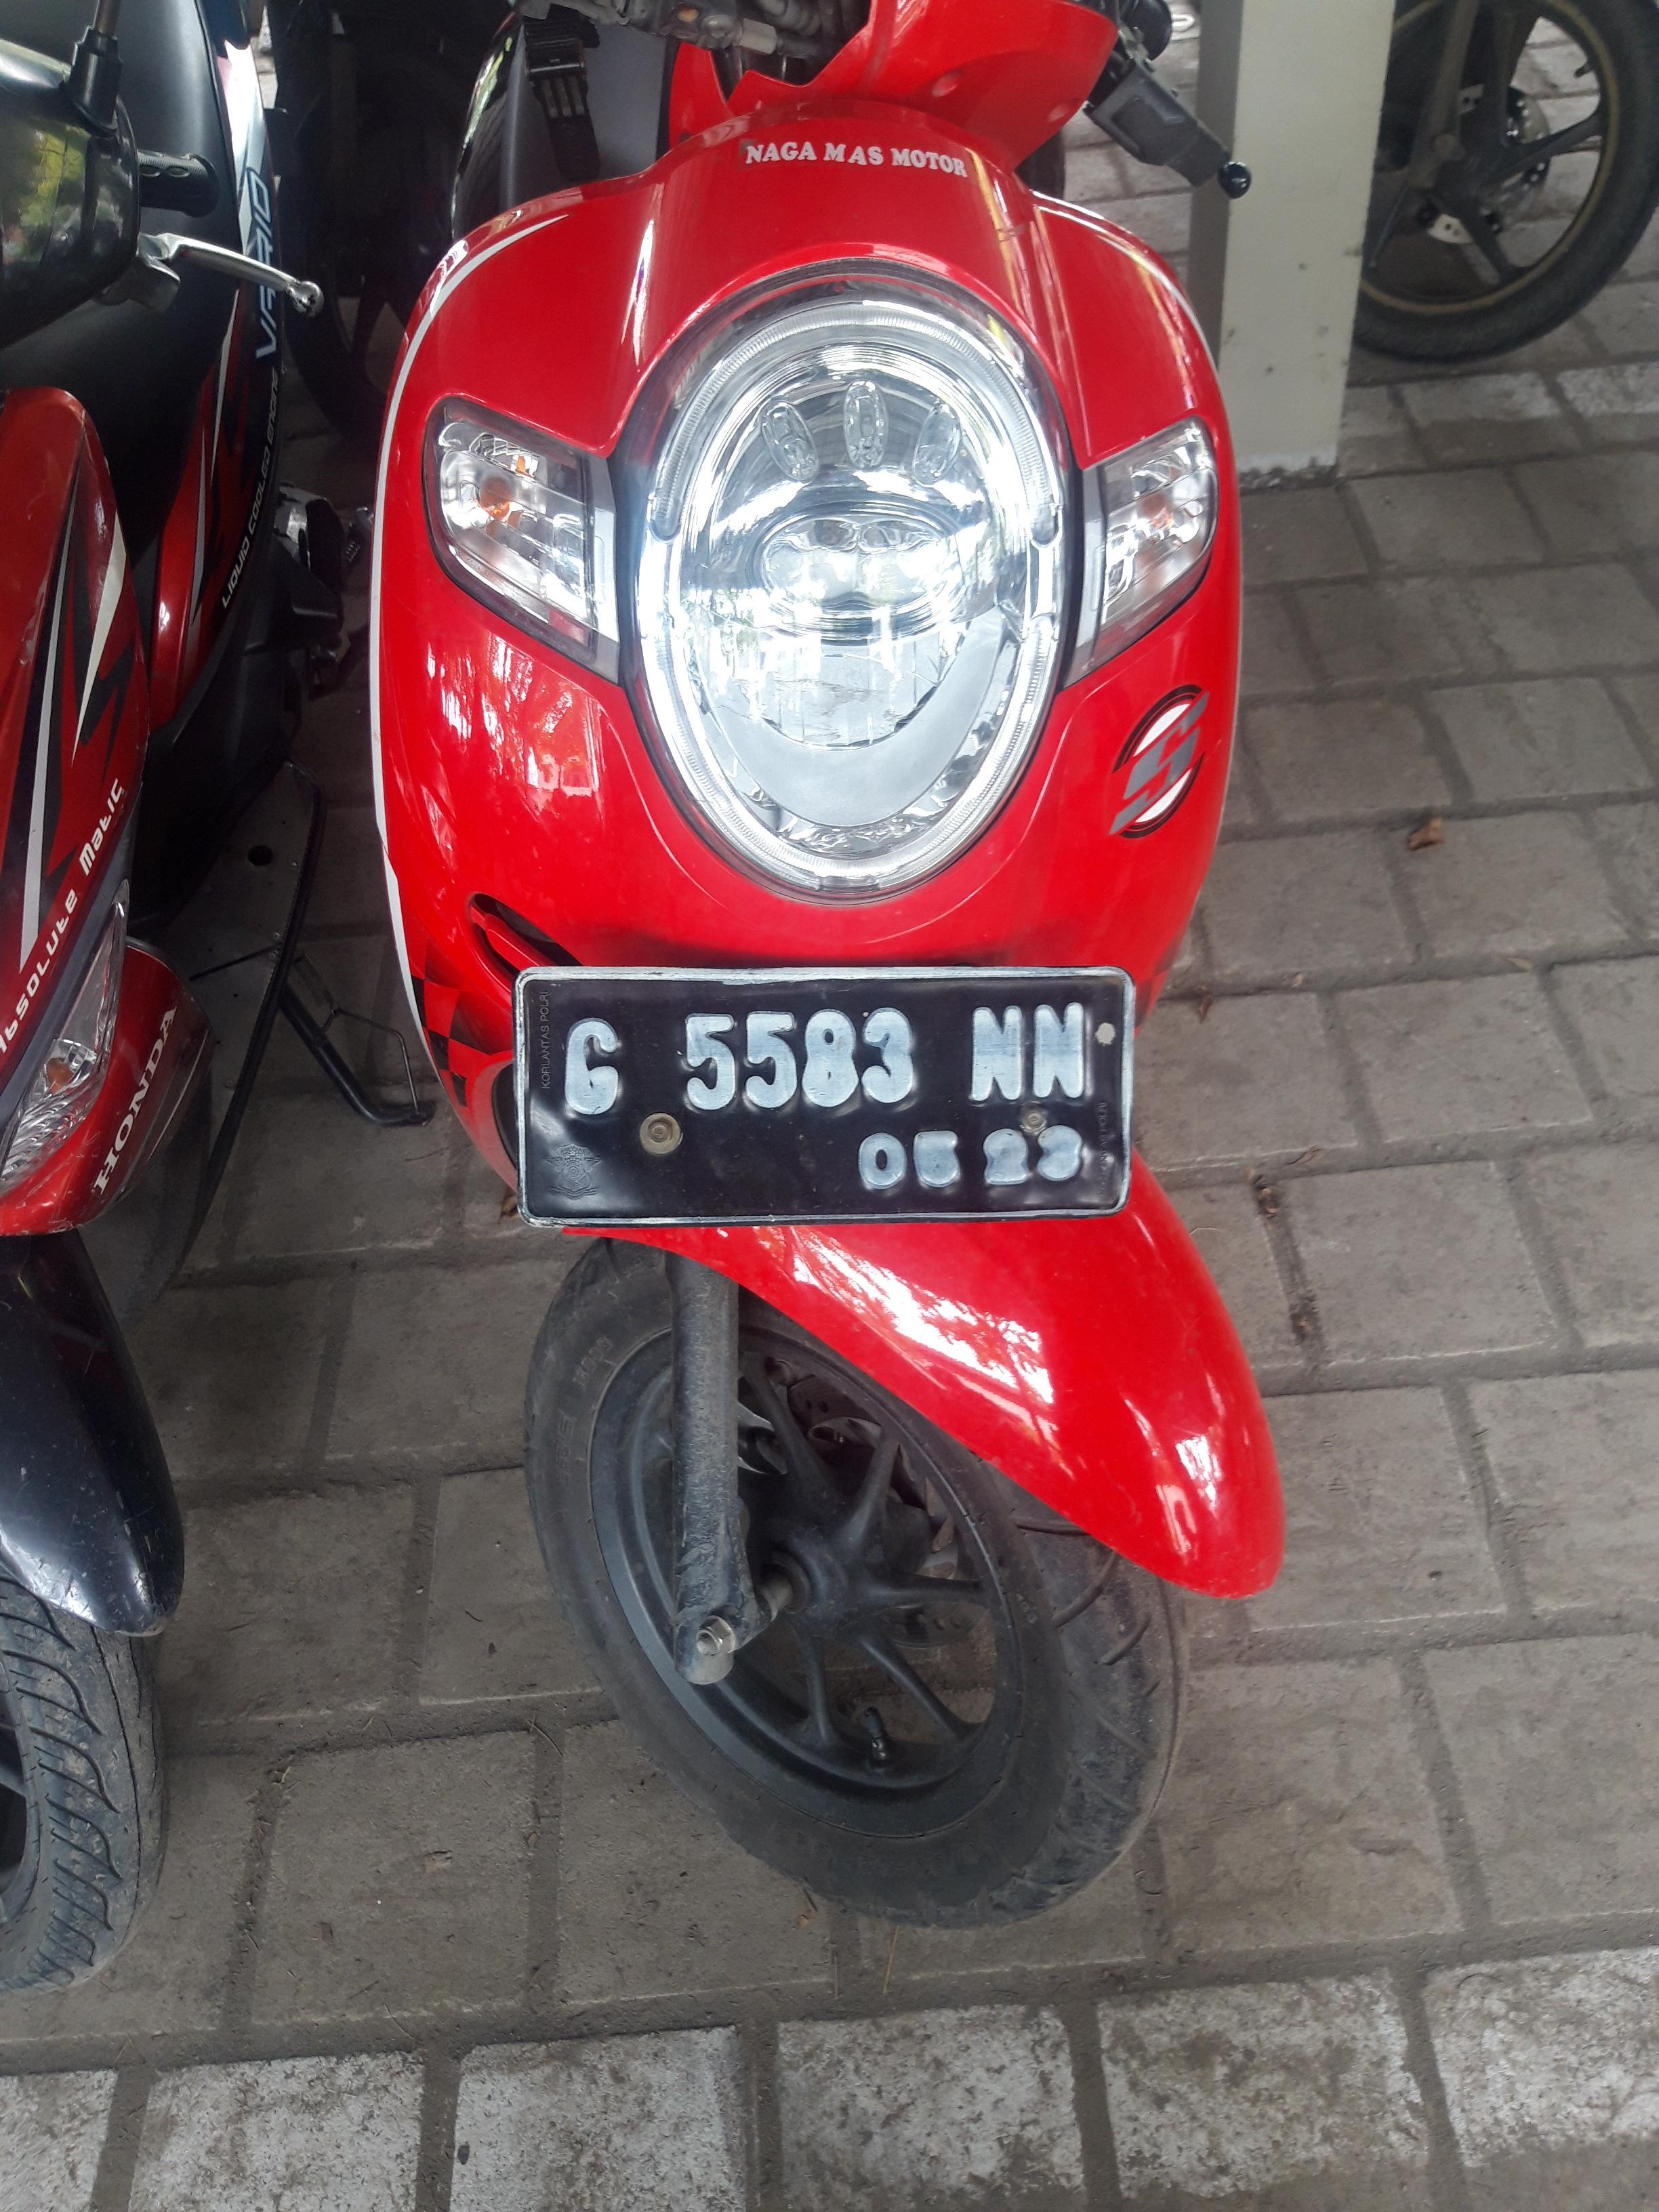clone-license-plate: (513, 970, 1135, 1216)
